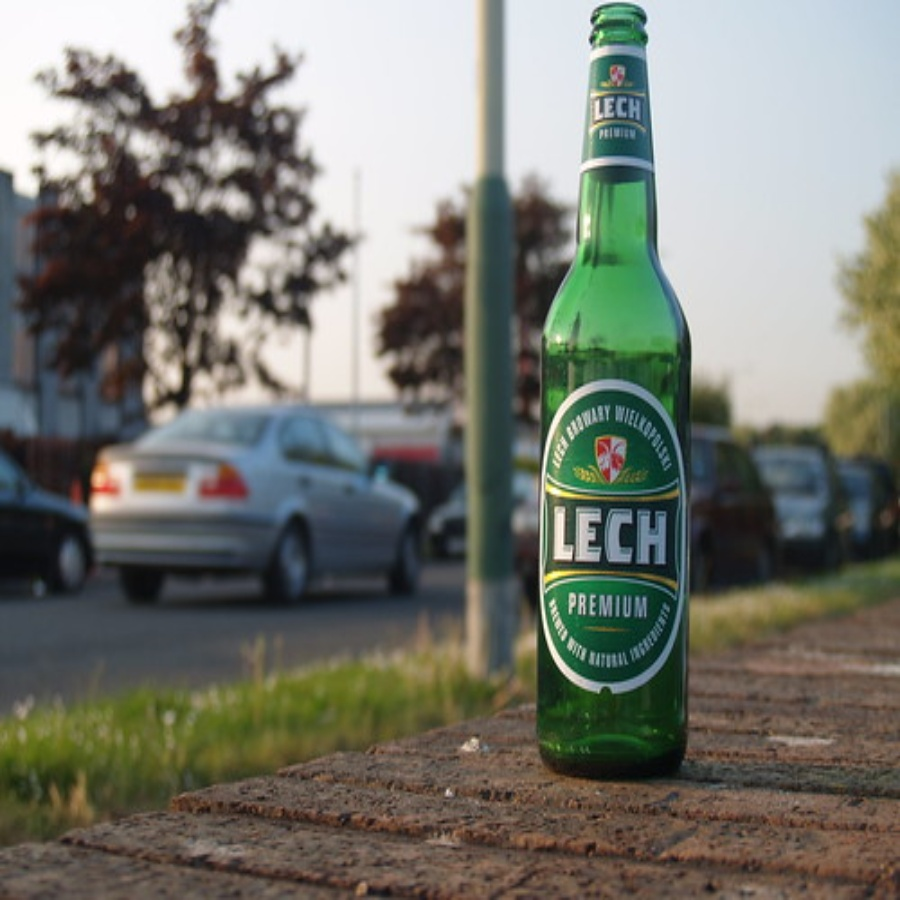beer: (533, 7, 700, 774)
